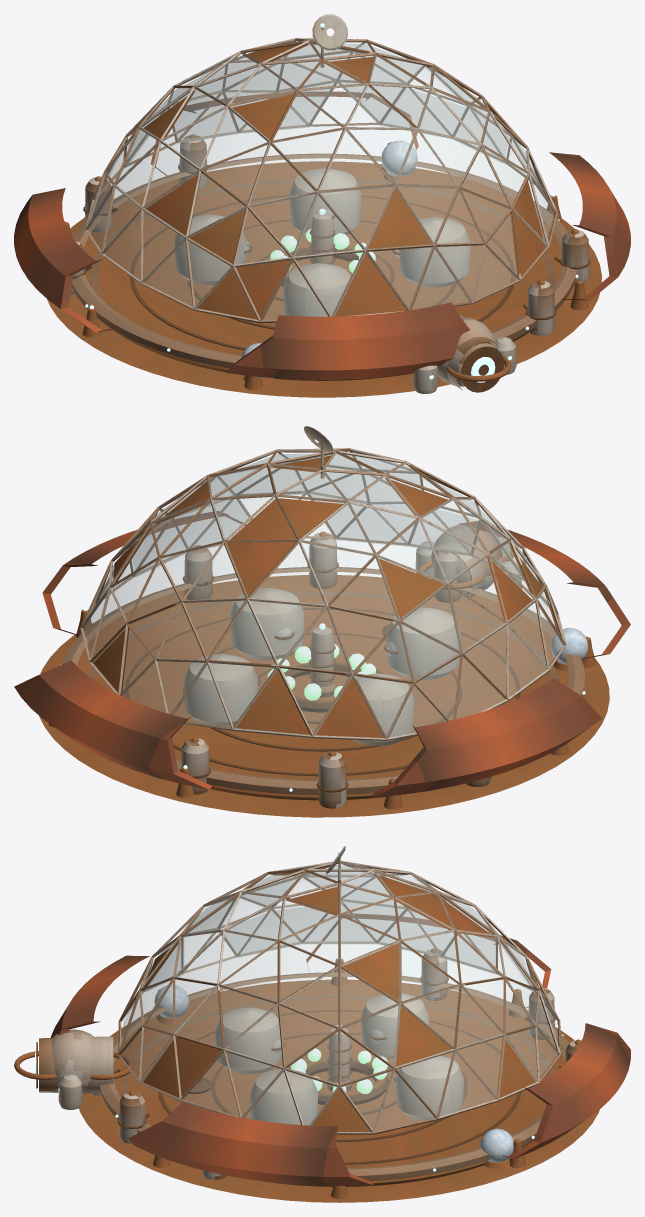
Rendered from dome.glb.
3 renders of one model, top to bottom at view 1: azimuth 30°, elevation 25°; view 2: azimuth 150°, elevation 25°; view 3: azimuth 270°, elevation 25°, orthographic. The views are drawn at different scales.
Parts seen in each view (by area): view 1: Glass, Pad, Struts, Radiator1, Belt, Radiator2, Radiator0, Pod0, Pod3, Pod1, Pod2, Floor (+14 smaller); view 2: Glass, Pad, Struts, Radiator2, Radiator3, Belt, Pod0, Pod3, Pod1, Pod2, Radiator1, Radiator0 (+14 smaller); view 3: Glass, Pad, Struts, Radiator0, Radiator3, Belt, Pod1, Pod3, Pod0, Radiator1, Pod2, Vestibule (+14 smaller).
Boxes of the visible parts, <box> form: Glass: <box>89,43,553,319</box>; Pad: <box>47,161,601,397</box>; Struts: <box>85,38,557,323</box>; Radiator1: <box>226,302,469,379</box>; Belt: <box>71,153,577,368</box>; Radiator2: <box>14,188,118,332</box>; Radiator0: <box>549,152,630,300</box>; Pod0: <box>399,217,470,287</box>; Pod3: <box>289,168,361,236</box>; Pod1: <box>283,263,350,316</box>; Pod2: <box>174,214,246,284</box>; Floor: <box>90,178,554,306</box>; Glass: <box>85,453,561,737</box>; Pad: <box>39,575,609,817</box>; Struts: <box>80,448,566,740</box>; Radiator2: <box>373,678,602,797</box>; Radiator3: <box>14,660,220,789</box>; Belt: <box>62,567,584,794</box>; Pod0: <box>230,588,304,660</box>; Pod3: <box>184,654,257,726</box>; Pod1: <box>387,607,460,679</box>; Pod2: <box>352,673,414,745</box>; Radiator1: <box>459,521,630,659</box>; Radiator0: <box>42,511,246,635</box>; Glass: <box>122,865,556,1131</box>; Pad: <box>79,979,599,1202</box>; Struts: <box>117,861,561,1134</box>; Radiator0: <box>128,1102,372,1185</box>; Radiator3: <box>502,1023,630,1158</box>; Belt: <box>100,972,569,1181</box>; Pod1: <box>215,1007,283,1074</box>; Pod3: <box>395,1056,463,1120</box>; Pod0: <box>250,1069,318,1125</box>; Radiator1: <box>50,955,149,1088</box>; Pod2: <box>361,993,428,1059</box>; Vestibule: <box>51,1029,94,1094</box>.
Bounding box in the file's own units: 18.42 × 8.66 × 19.5.
Materials: 13 (10 with a texture image).
